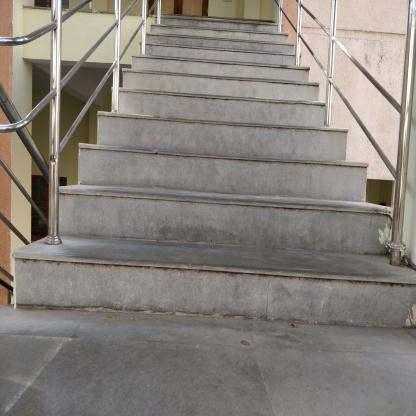stairs: (164, 11, 272, 332)
